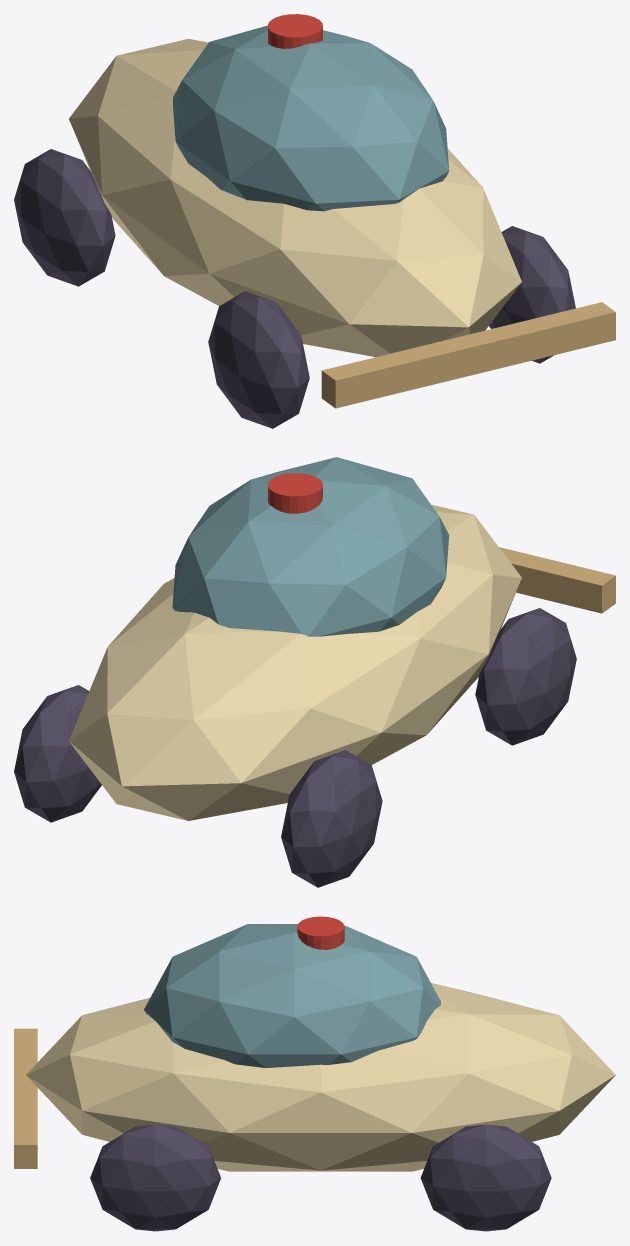
3 views of the same model, one above another, from view 1: azimuth 30°, elevation 25°; view 2: azimuth 150°, elevation 25°; view 3: azimuth 270°, elevation 25° (orthographic). The views are drawn at different scales.
Visible parts, largest first — view 1: RC-019 Cream taxi batched; view 2: RC-019 Cream taxi batched; view 3: RC-019 Cream taxi batched.
Boxes of the visible parts, x1,y1,x2,y2 form: RC-019 Cream taxi batched: [14, 14, 615, 428]; RC-019 Cream taxi batched: [14, 457, 615, 887]; RC-019 Cream taxi batched: [14, 916, 615, 1231].
Size of the model in its own units: 2.48 by 2.1 by 4.59.
